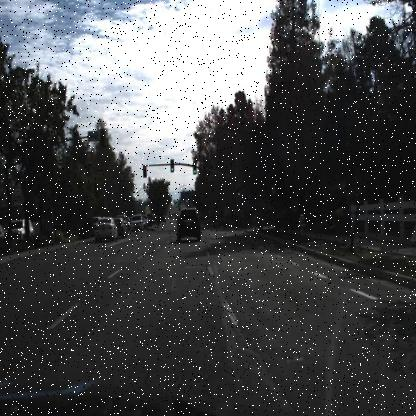car: (174, 203, 204, 247), (93, 215, 117, 243), (8, 218, 34, 240), (131, 214, 144, 232)
trafficLight: (140, 159, 149, 182), (192, 156, 200, 178), (168, 155, 176, 175), (235, 183, 243, 203)
